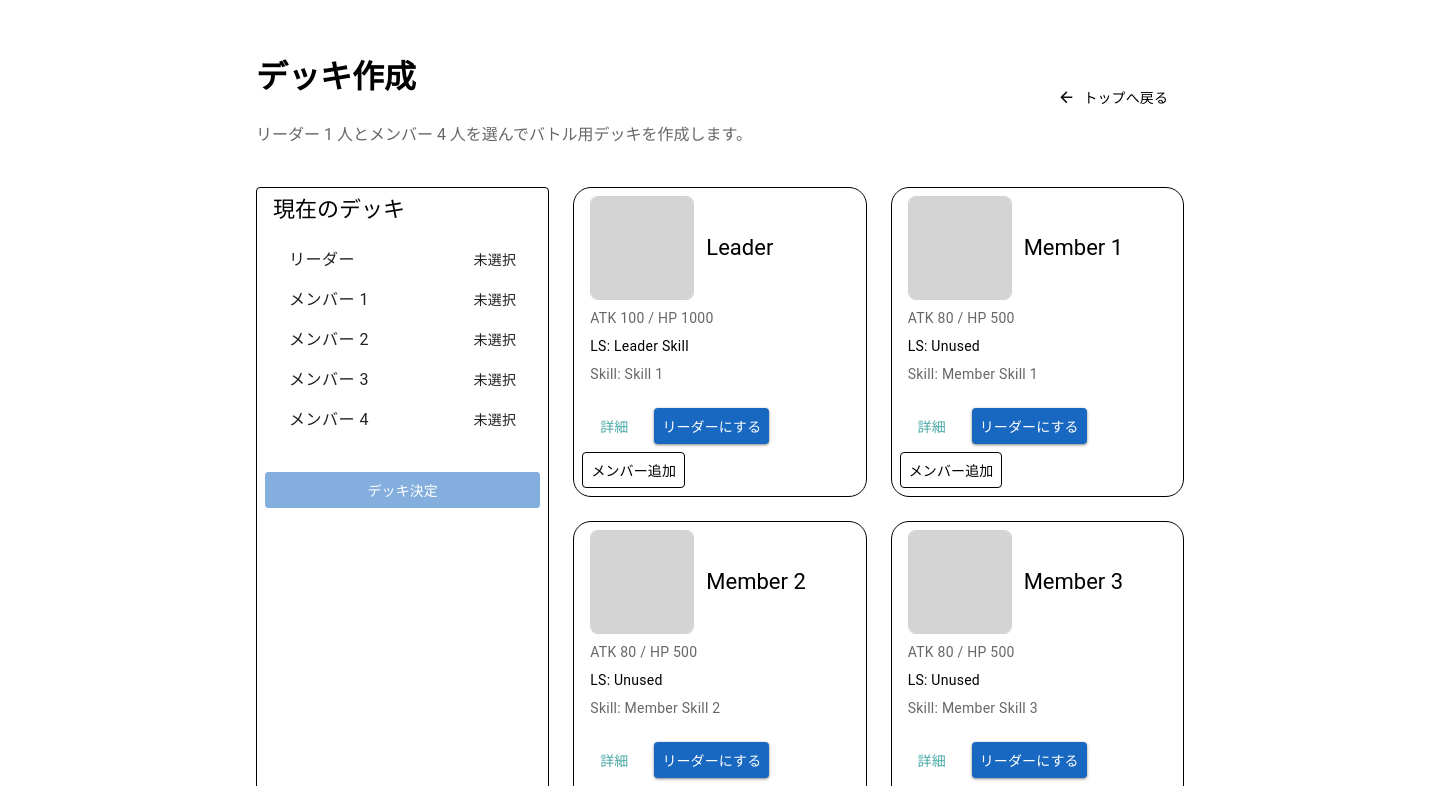
Test: BattleDeckView › 詳細ボタンでスキル説明ダイアログを開ける
Click the button "詳細" below "Skill: Skill 1" at {"x": 614, "y": 426}, box [582,408,646,444]
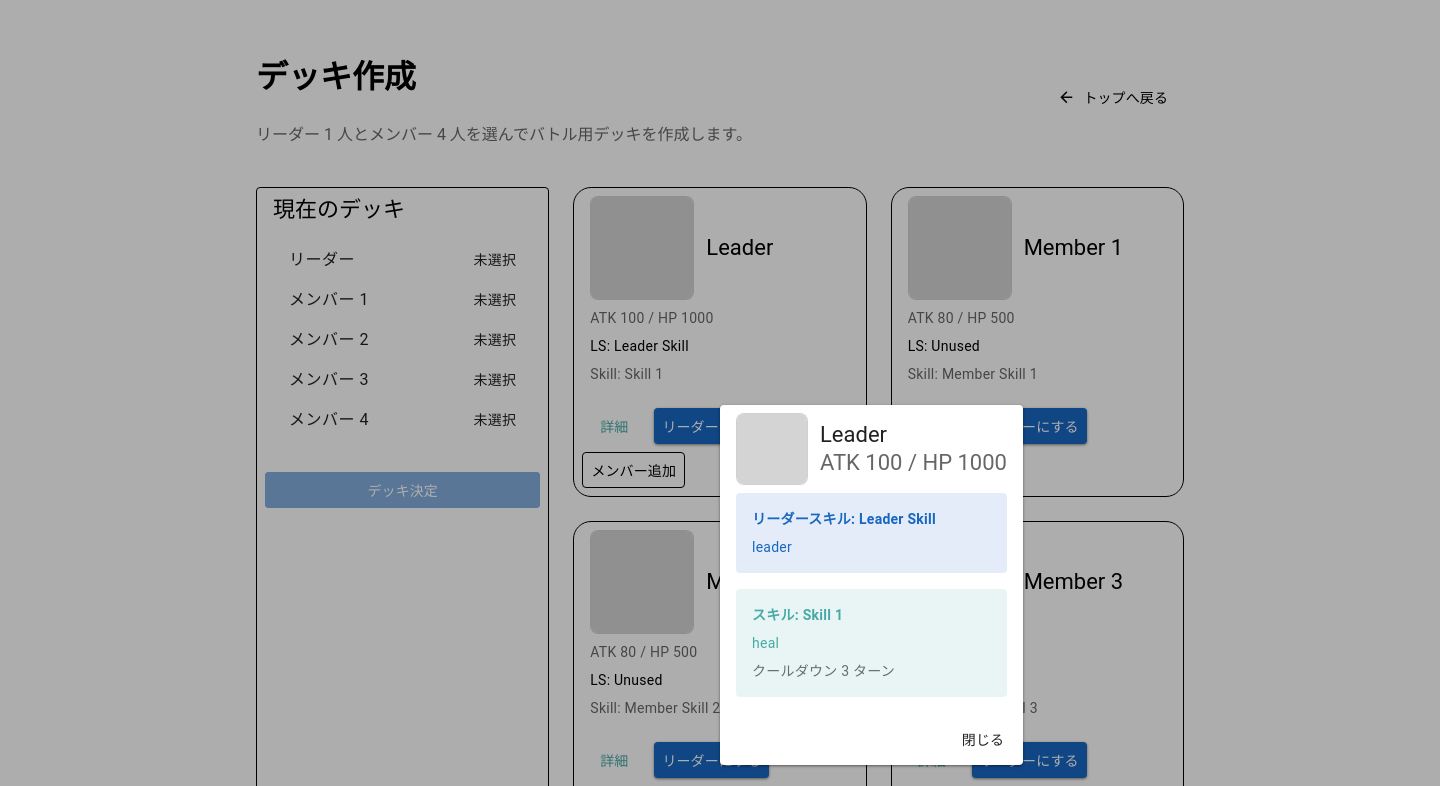
Expected: the text "リーダースキル: Leader Skill" is shown, [752,511,936,527]
Expected: the text "スキル: Skill 1" is shown, [752,607,843,623]
Expected: the text "heal" is shown, [752,635,779,651]
